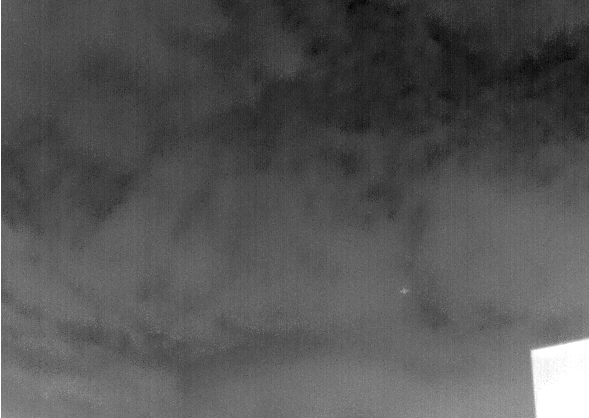dim target: (398, 287, 410, 294)
